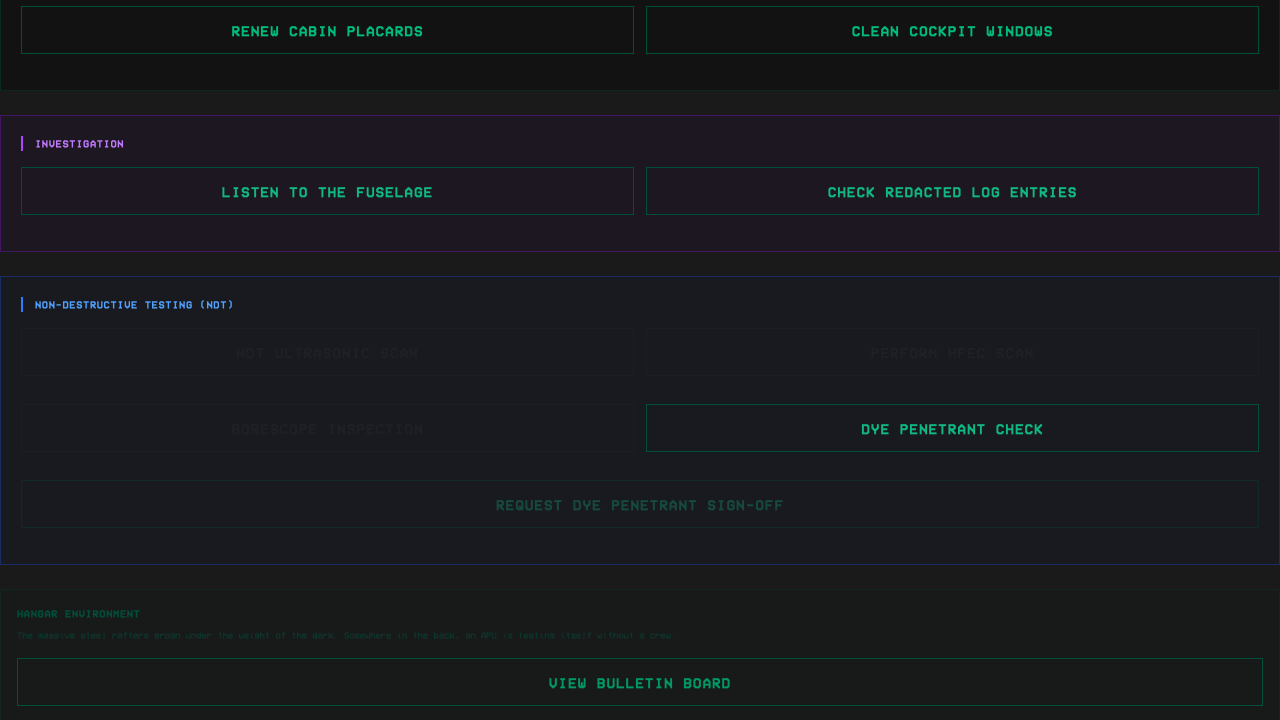
Test: ActionPanel - NDT gating › stops offering the sign-off once the qualification is held
This screenshot has width=1280, height=720.
(page scrolled)
Expected: the button "Request Dye Penetrant Sign-Off" is disabled, [21,480,1259,528]
Hover over the element showing "Request Dye Penetrant Sign-Off": {"x": 640, "y": 512} [21,480,1259,544]
Wait 300 ms
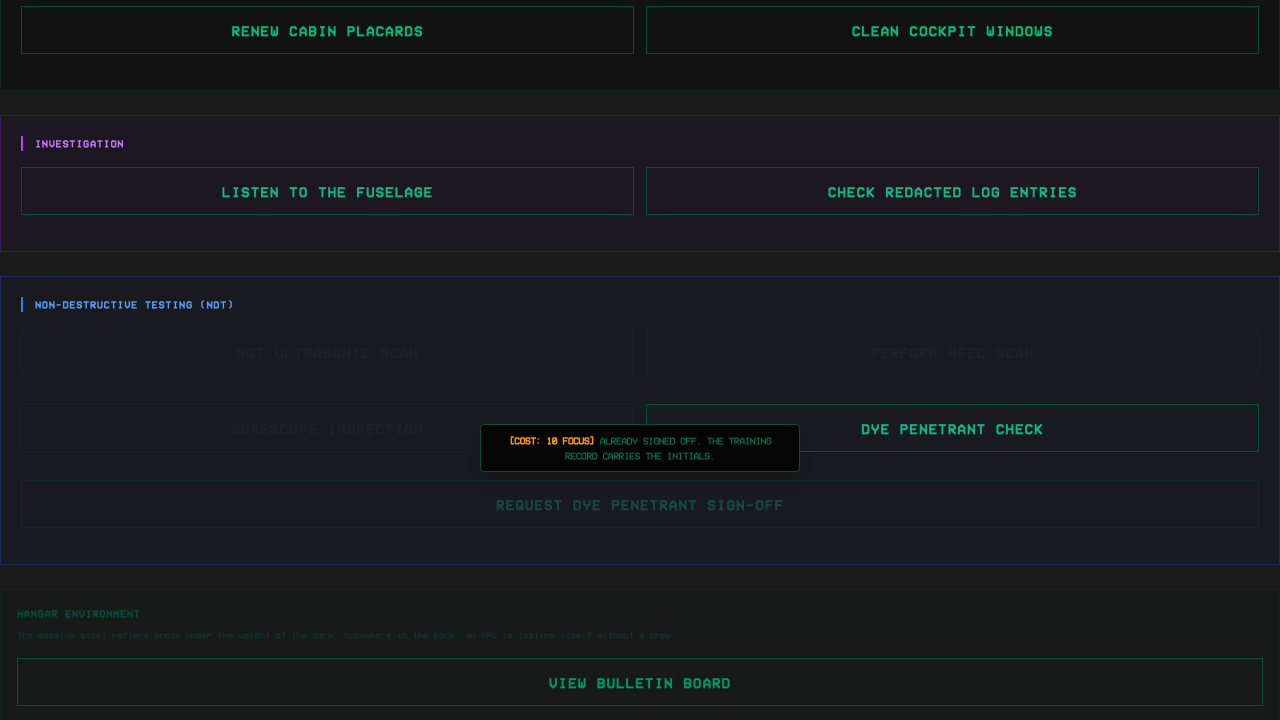
Expected: the text "Already signed off" is shown, [565,436,771,460]
